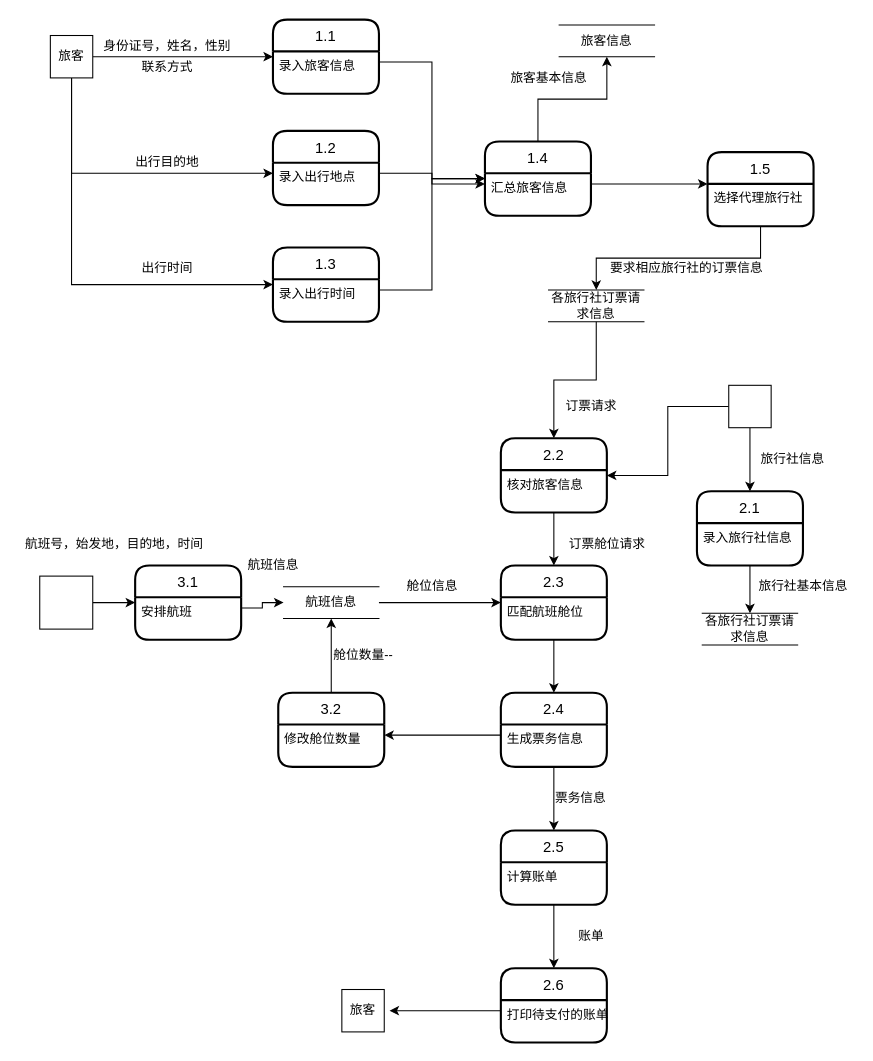
This 873x1061 diagram has some shape labels left out. Each missing label, with the centre of its shape:
"旅行社" goes at [749,406].
"航空公司" goes at [66,602].
